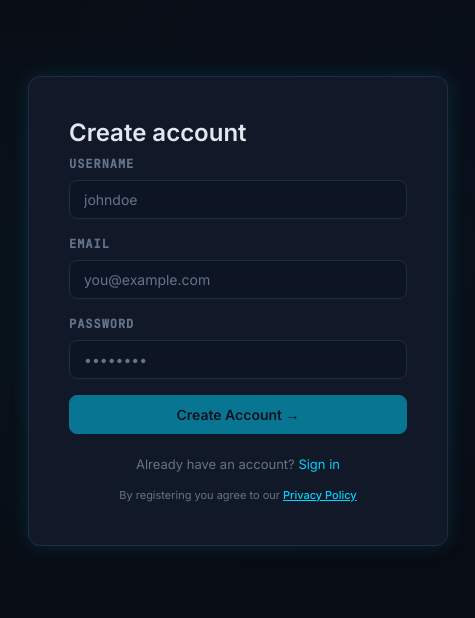
Test: RegisterPage › shows password validation rules when typing
This screenshot has width=475, height=618.
Type "short" into the password field labelled "Password" at [238, 360], box [69,340,407,379]
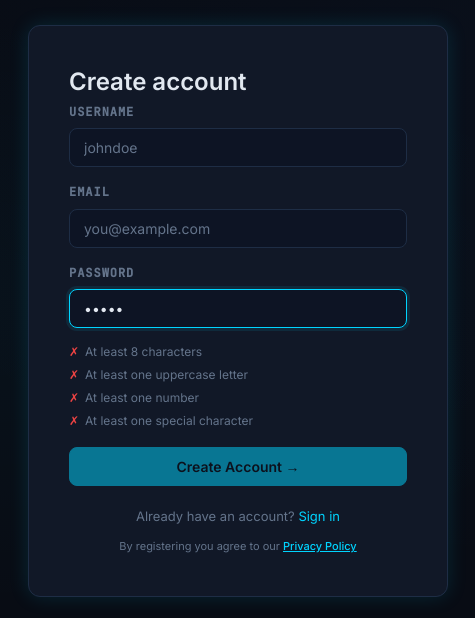
expect the text "At least 8 characters" is shown: met, box [85,342,202,361]
